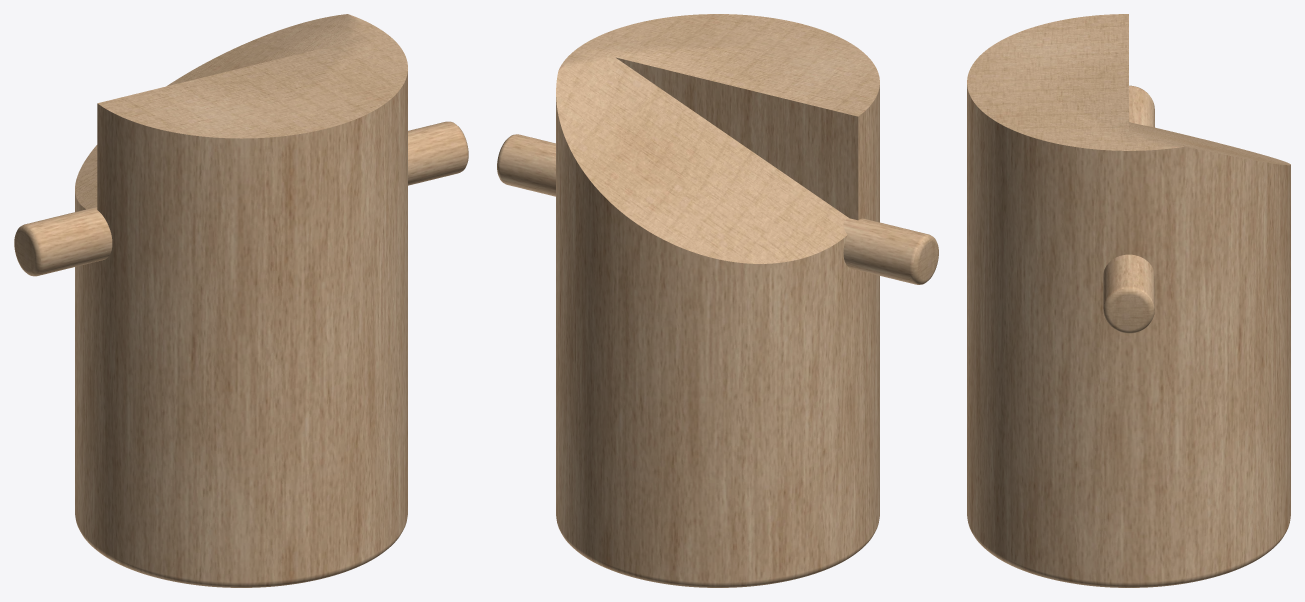
File: knight-white.glb
The picture shows the model from 3 angles, left to right: view 1: azimuth 30°, elevation 25°; view 2: azimuth 150°, elevation 25°; view 3: azimuth 270°, elevation 25°; orthographic projection. The views are drawn at different scales.
Parts seen in each view (by area): view 1: Cylindra_Jezdec_bílý; view 2: Cylindra_Jezdec_bílý; view 3: Cylindra_Jezdec_bílý.
Boxes of the visible parts, bbox=[...] form: Cylindra_Jezdec_bílý: bbox=[14, 14, 468, 587]; Cylindra_Jezdec_bílý: bbox=[497, 14, 938, 587]; Cylindra_Jezdec_bílý: bbox=[967, 14, 1290, 587].
Size of the model in its own units: 0.8 by 0.8 by 0.5334.
2 materials, 2 textured.
